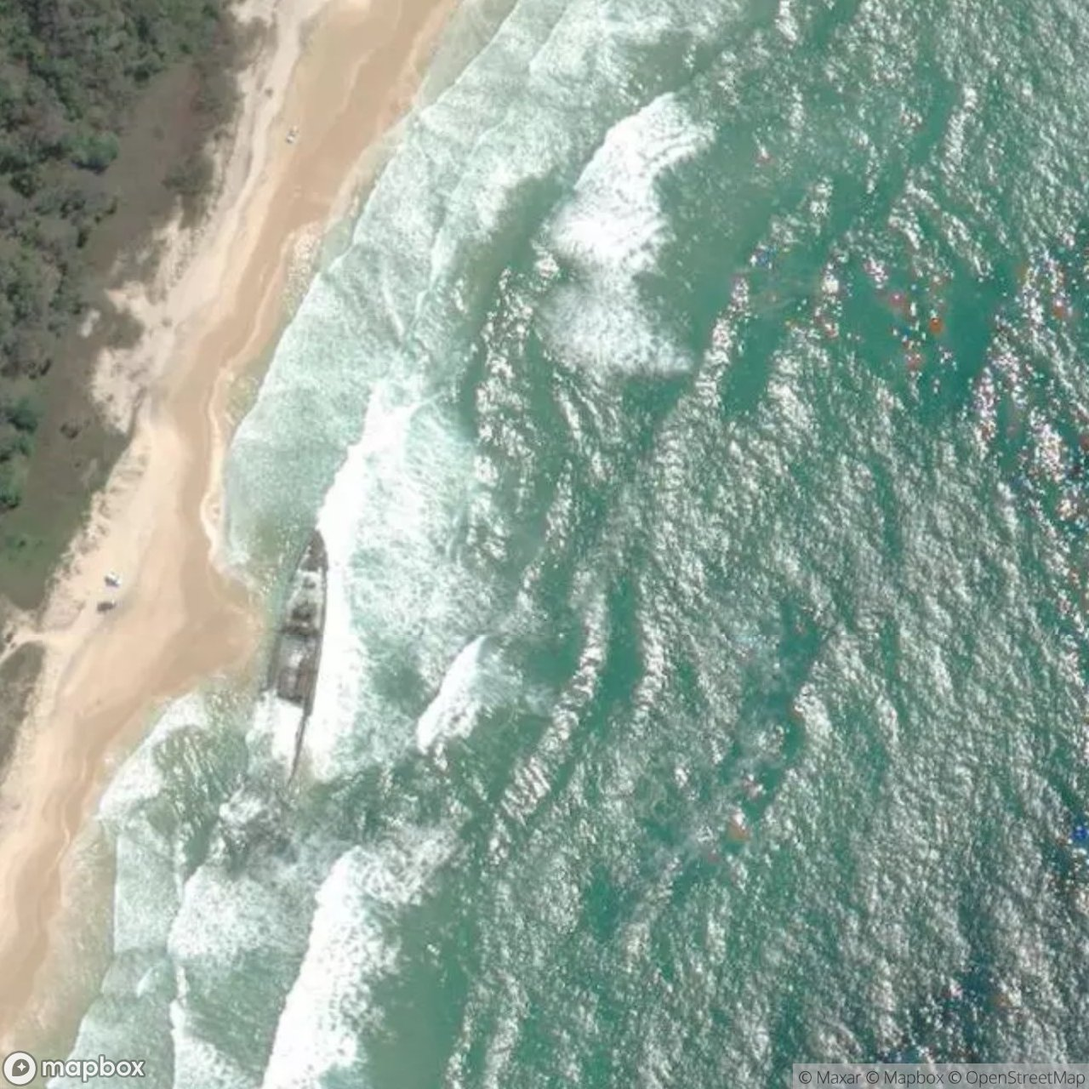Wreck: (206, 506, 367, 823)
